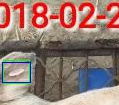text: (3, 60, 29, 83)
